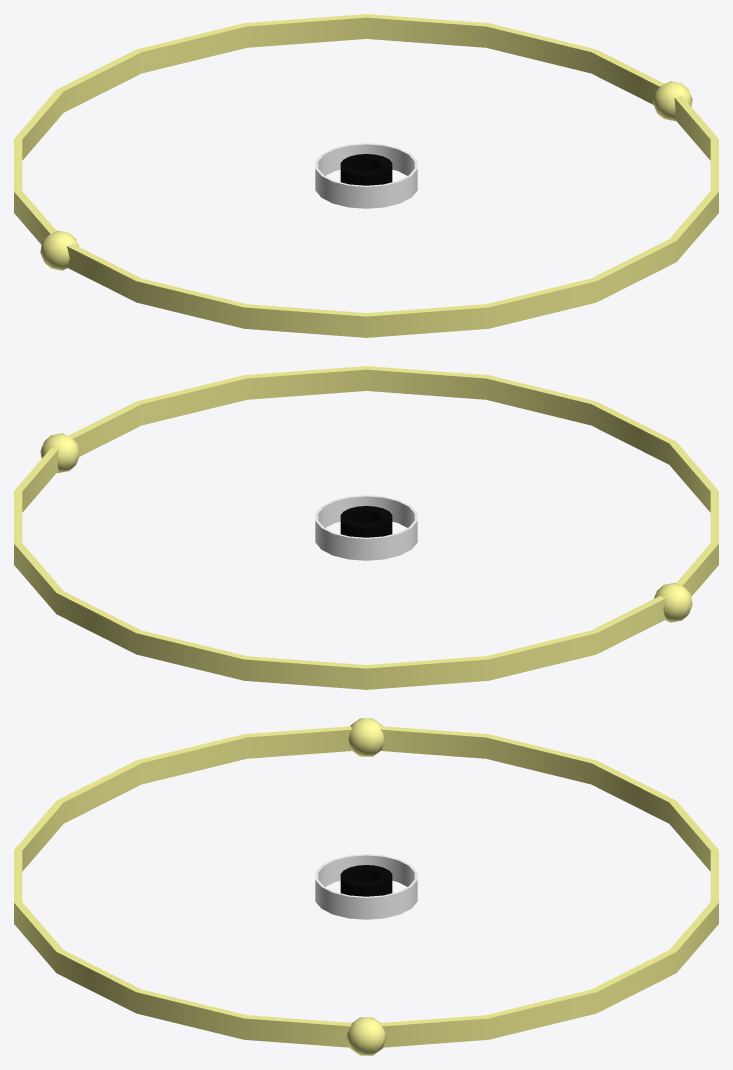
The model's file is Spin_NoteSet.FBX.
The picture shows the model from 3 angles, top to bottom: view 1: azimuth 30°, elevation 25°; view 2: azimuth 150°, elevation 25°; view 3: azimuth 270°, elevation 25°; orthographic projection.
Parts seen in each view (by area): view 1: Object001, Cylinder009; view 2: Object001, Cylinder009; view 3: Object001, Cylinder009.
Part boxes in pixels (left/top/right/bottom): Object001: left=14, top=14, right=718, bottom=337; Cylinder009: left=315, top=143, right=417, bottom=208; Object001: left=14, top=366, right=718, bottom=689; Cylinder009: left=315, top=495, right=417, bottom=560; Object001: left=14, top=718, right=718, bottom=1055; Cylinder009: left=315, top=854, right=417, bottom=919.
Bounding box in the file's own units: 234 × 12.71 × 221.
